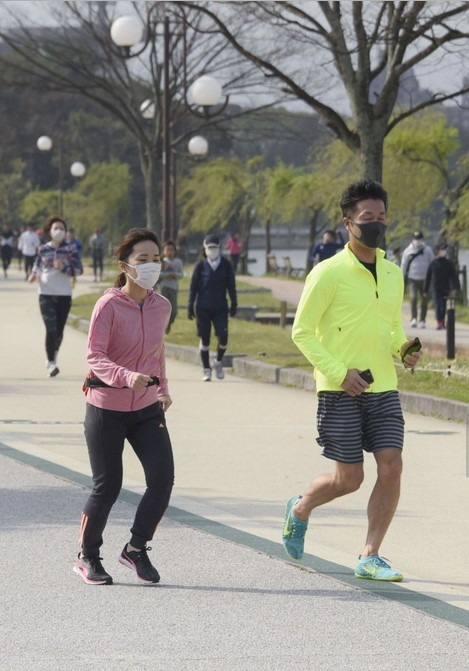face_with_mask: (341, 187, 393, 252), (115, 231, 168, 292)
